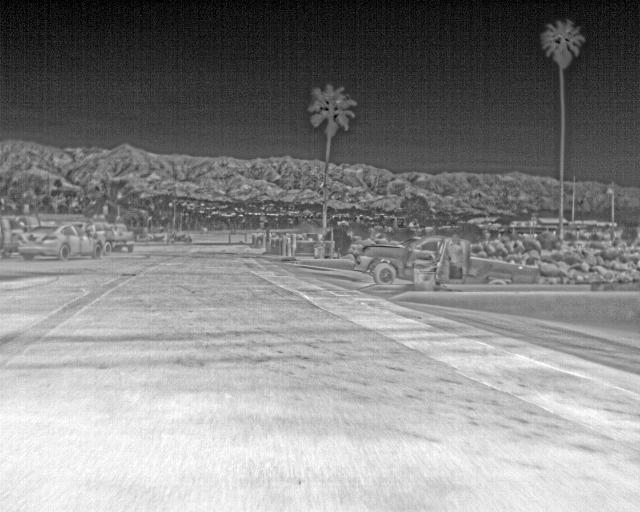bicycle: (353, 234, 439, 286), (18, 222, 104, 261), (469, 245, 540, 288), (94, 224, 134, 251)
